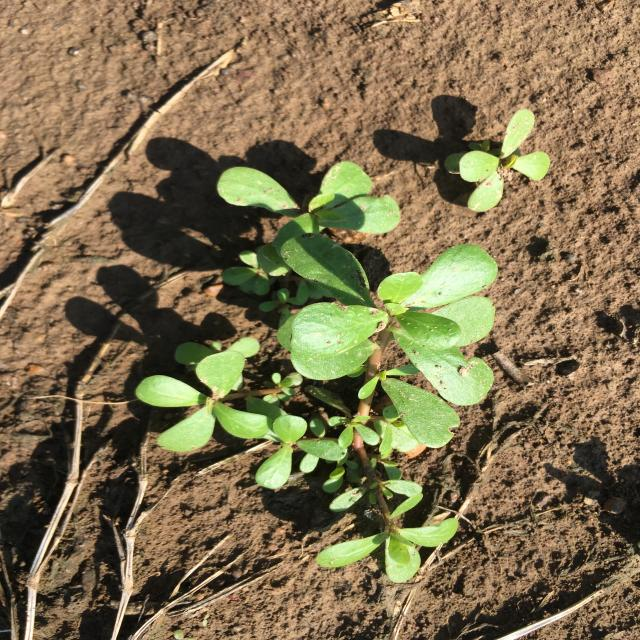Purslane: (136, 162, 498, 583), (444, 108, 550, 212)
